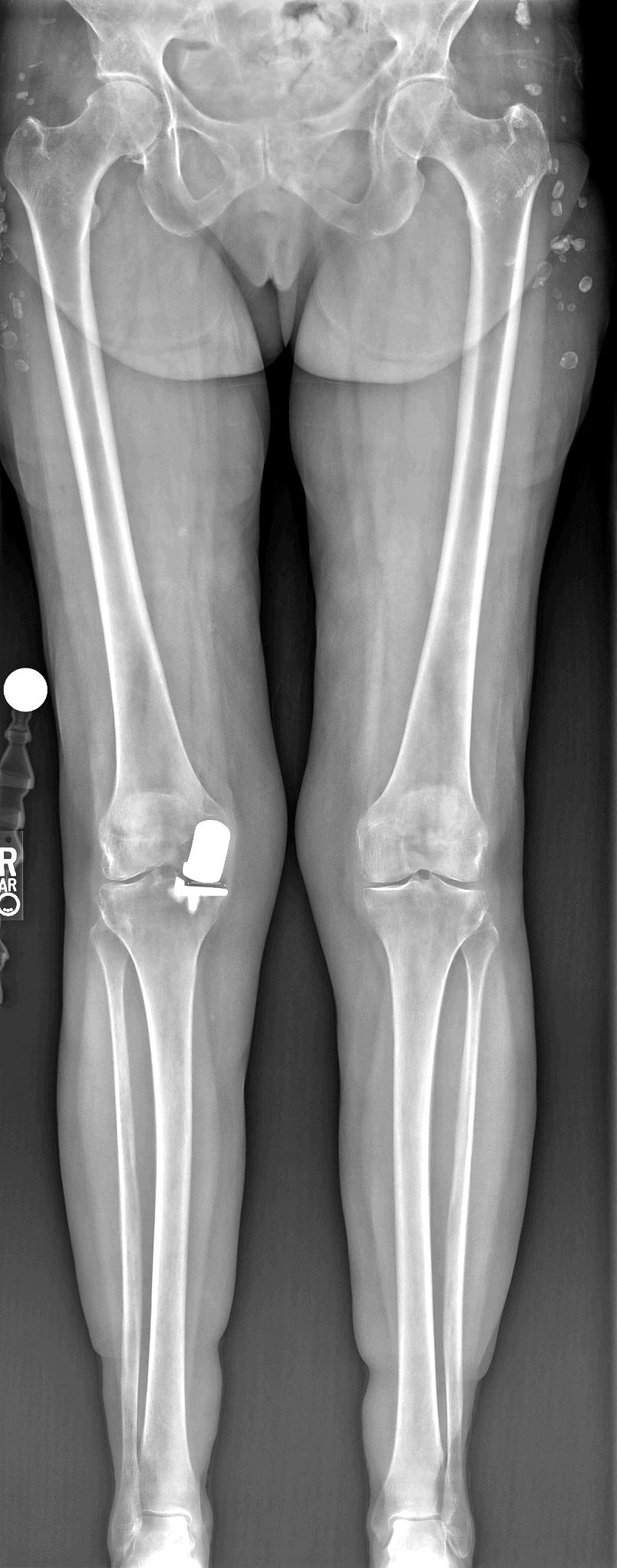Leg Fibula: (441, 923, 500, 1558), (87, 912, 143, 1561)
Leg Tibia: (98, 862, 230, 1536), (365, 871, 490, 1545)
femur: (6, 80, 236, 889), (361, 77, 551, 884)
